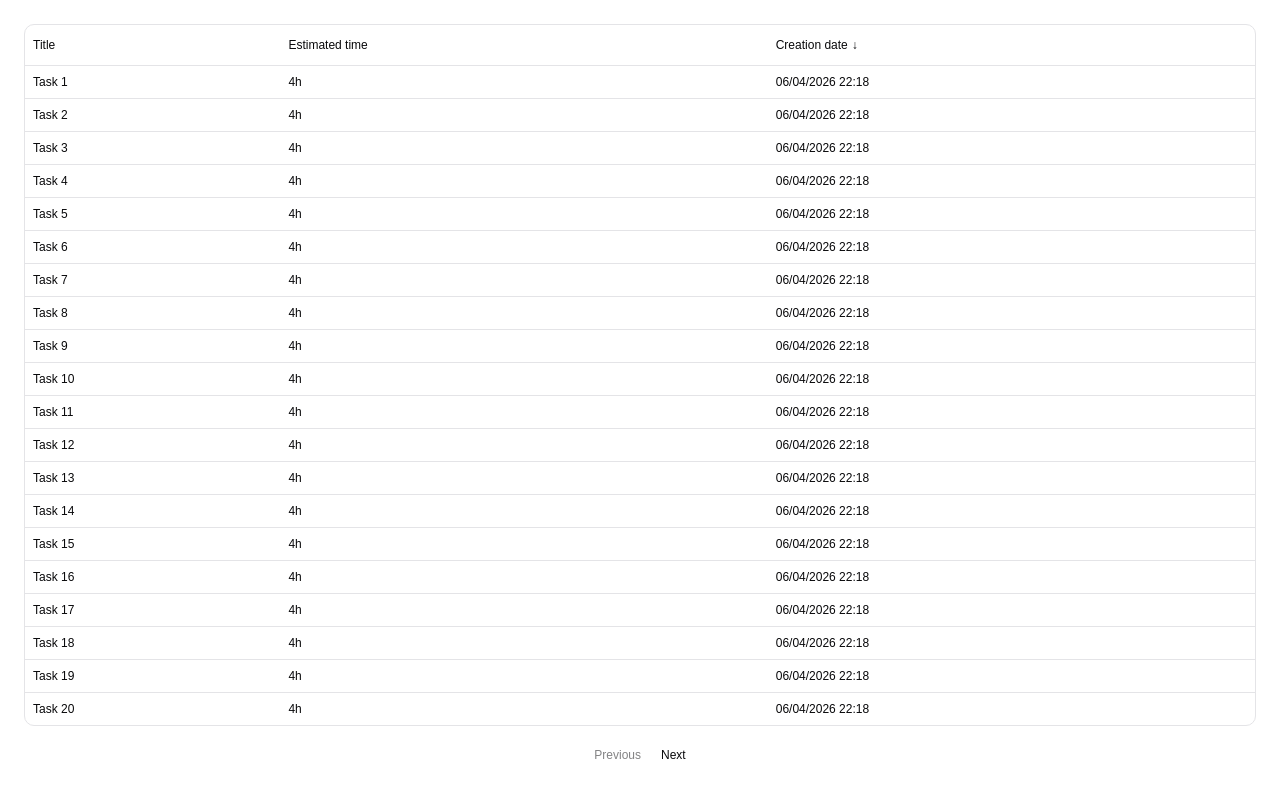
Test: TasksPage — pagination navigation › clicking Next shows page 2 tasks
Expected: the text "Task 1" is shown, [25, 65, 280, 98]
What coordinates should you click on to do the following:
click the button with aria-label "go to next page"
I would click on:
 (673, 755)
Its box is [661, 748, 686, 762].
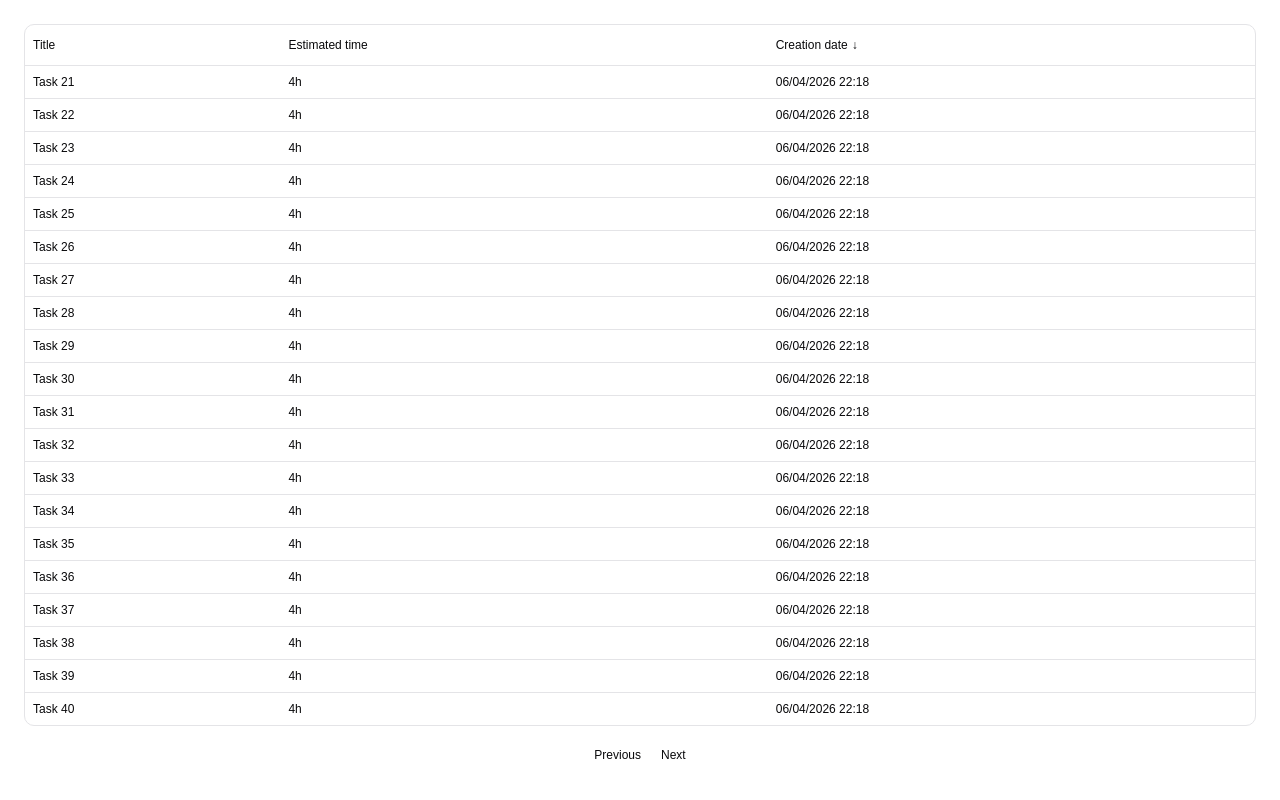
Expected: the text "Task 21" is shown, [25, 65, 280, 98]
Expected: the text "Task 1" is gone
